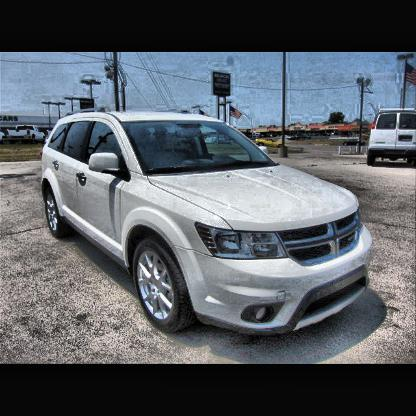Dodge Journey SUV 2012: (42, 110, 374, 339)
